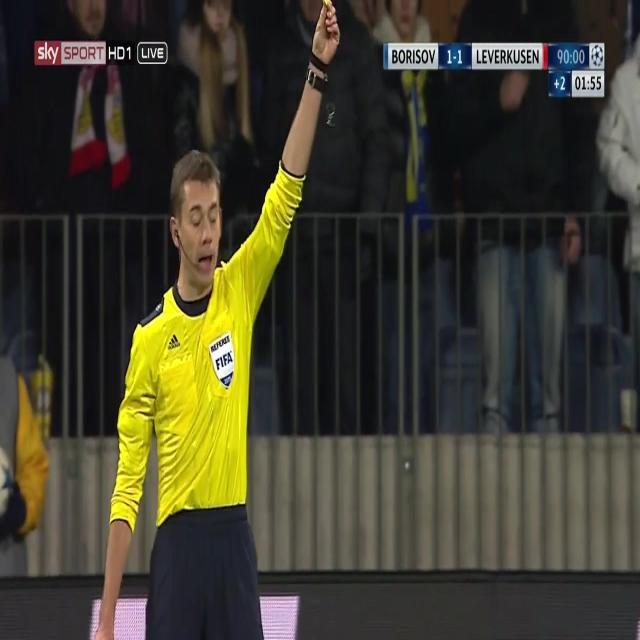Referee: (95, 0, 342, 639)
